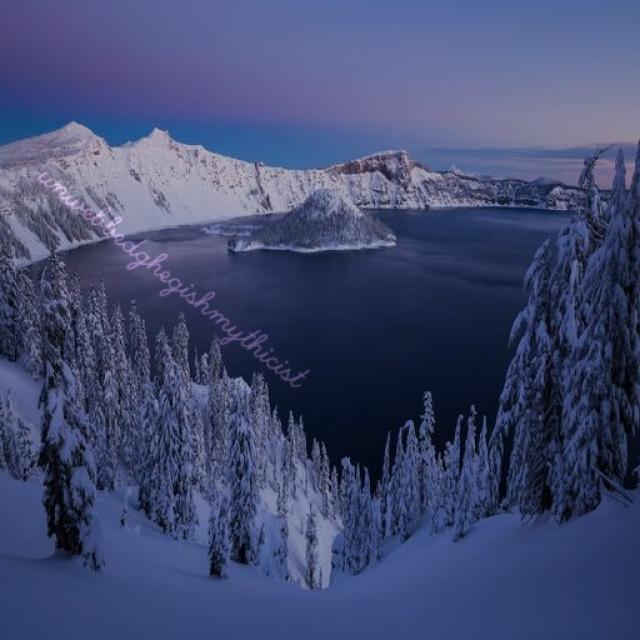watermark: (29, 153, 319, 394)
